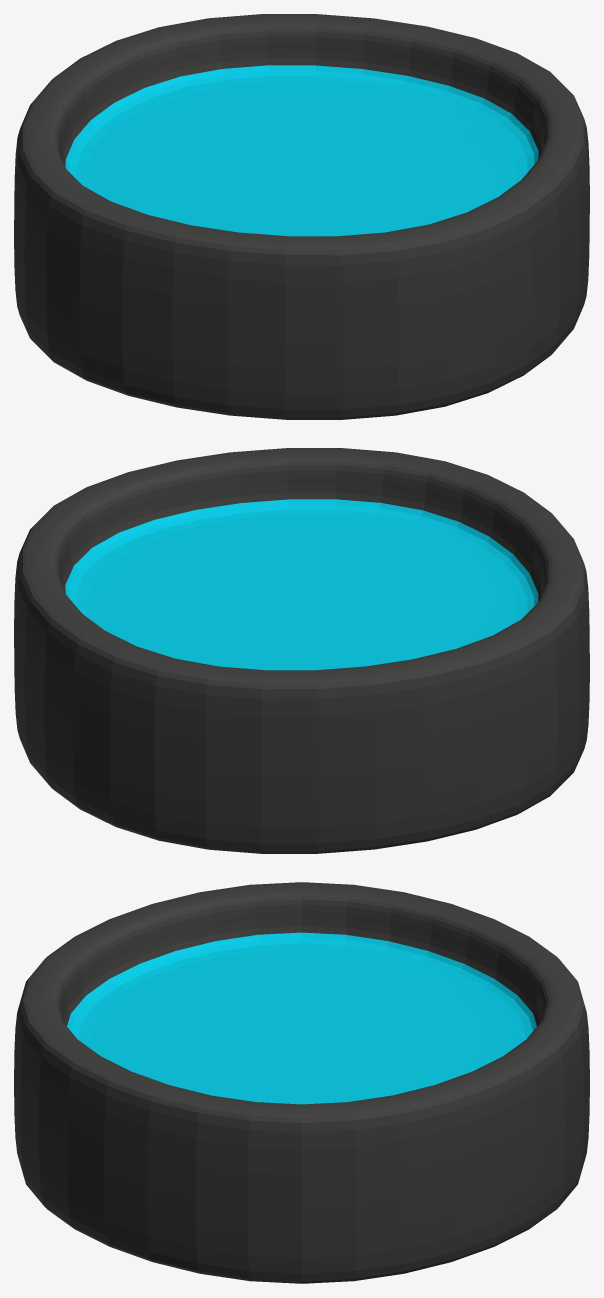
The model's file is water.glb.
3 views of the same model, one above another, from view 1: azimuth 30°, elevation 25°; view 2: azimuth 150°, elevation 25°; view 3: azimuth 270°, elevation 25° (orthographic). The views are drawn at different scales.
Parts seen in each view (by area): view 1: waterpond; view 2: waterpond; view 3: waterpond.
Part boxes in pixels (x1,y1,x2,y2): waterpond: [14, 14, 589, 419]; waterpond: [14, 448, 589, 853]; waterpond: [14, 882, 589, 1283].
Size of what is drawn, in the model's own units: 3.19 by 1.04 by 3.19.
